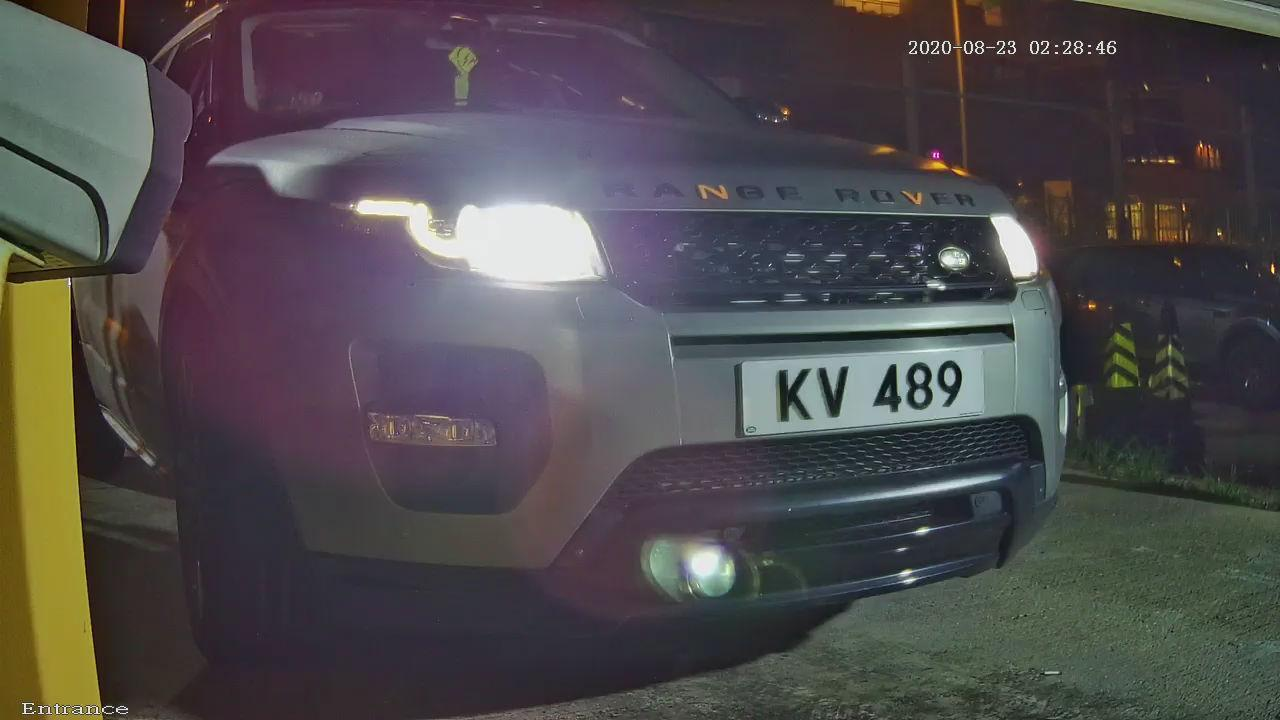Car: (75, 7, 1121, 676)
License Plate: (721, 328, 1012, 450)
